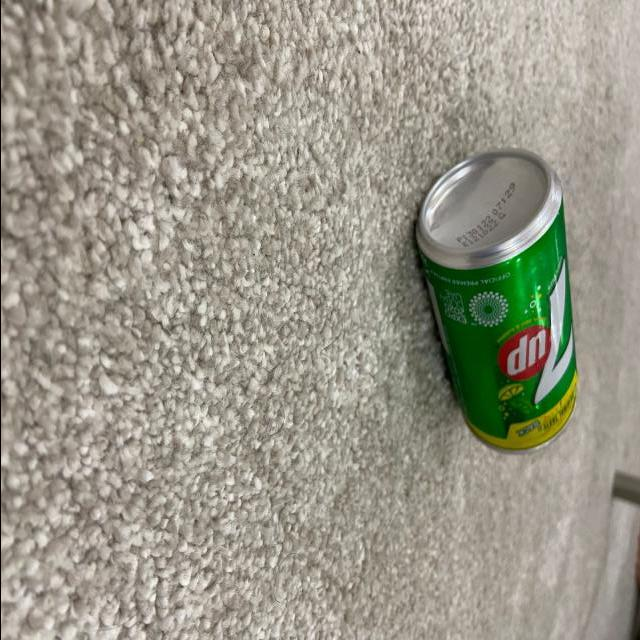can: (415, 146, 578, 456)
